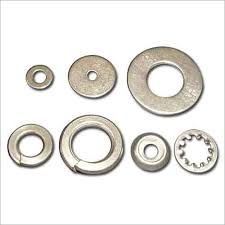No thread: (141, 56, 185, 100), (142, 144, 160, 161)
